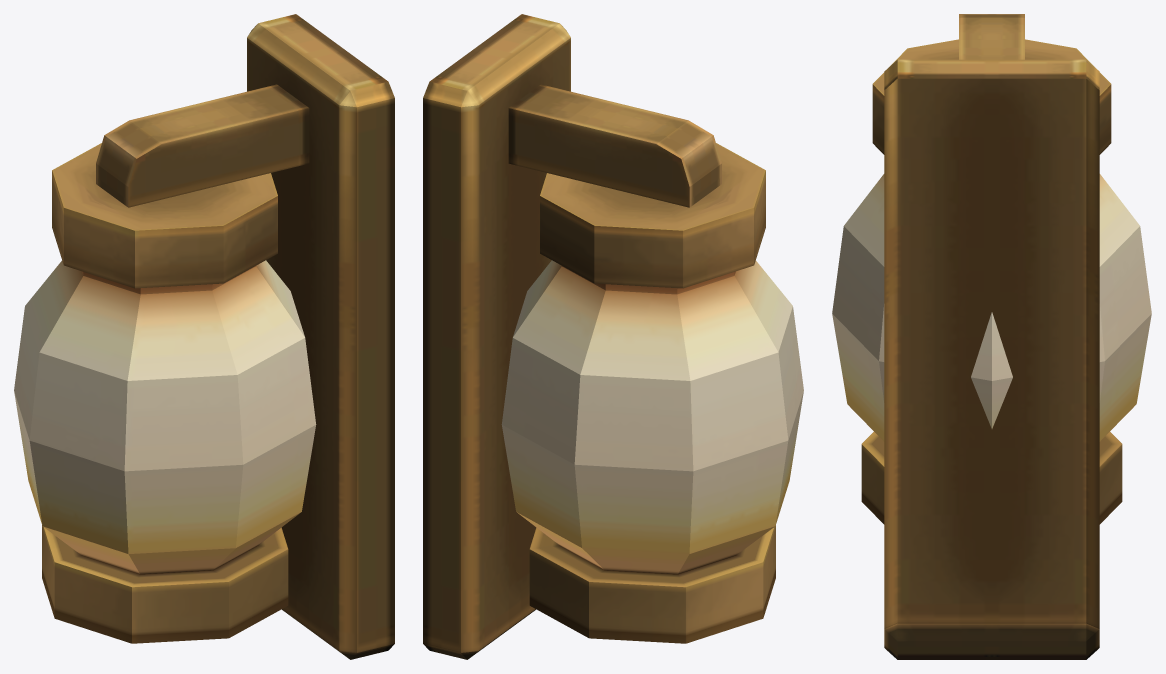
File: my_highlander_01_light_01.glb
3 renders of one model, left to right at view 1: azimuth 30°, elevation 25°; view 2: azimuth 150°, elevation 25°; view 3: azimuth 270°, elevation 25°, orthographic. The views are drawn at different scales.
Parts seen in each view (by area): view 1: my_highlander_01_light_01; view 2: my_highlander_01_light_01; view 3: my_highlander_01_light_01.
Boxes of the visible parts, x1,y1,x2,y2 form: my_highlander_01_light_01: (14,14,394,659); my_highlander_01_light_01: (423,14,803,659); my_highlander_01_light_01: (832,14,1151,659).
Size of the model in its own units: 0.00213 by 0.00371 by 0.00185.
2 materials, 2 textured.
